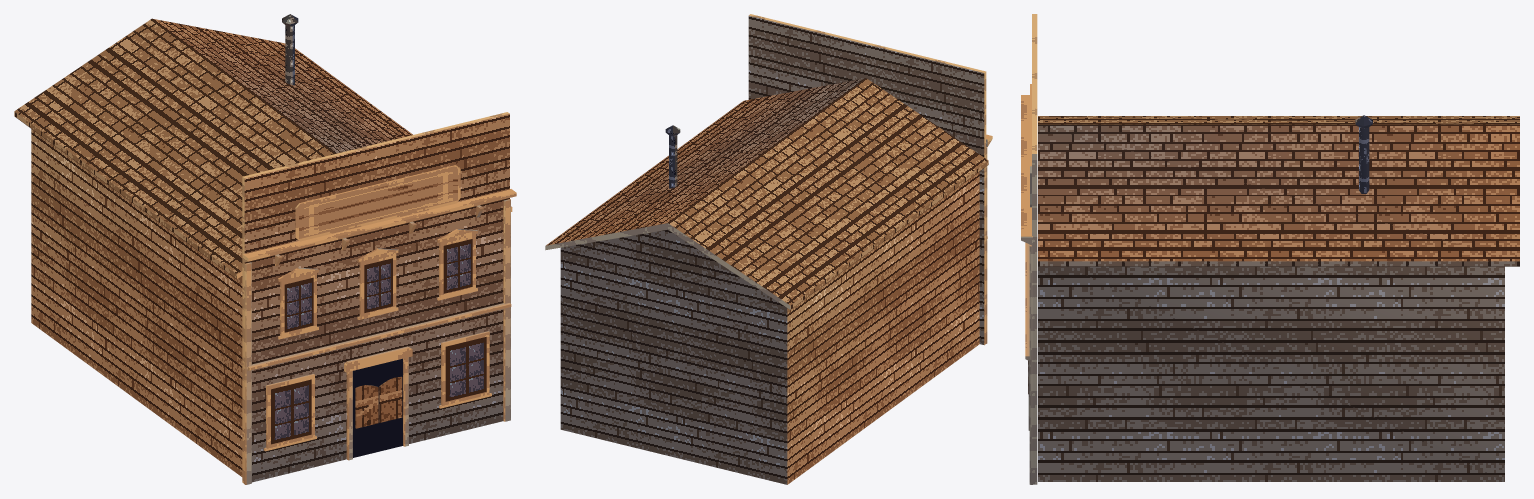
File: wtown.saloon__plain.glb
3 renders of one model, left to right at view 1: azimuth 30°, elevation 25°; view 2: azimuth 150°, elevation 25°; view 3: azimuth 270°, elevation 25°, orthographic. The views are drawn at different scales.
Parts seen in each view (by area): view 1: kit_front, kit_roof, kit_body, kit_card_panes, kit_trim, kit_windows, kit_door, kit_stovepipe; view 2: kit_body, kit_roof, kit_front, kit_stovepipe; view 3: kit_body, kit_roof, kit_trim, kit_front, kit_stovepipe.
Part boxes in pixels (x1,y1,x2,y2): kit_front: (242, 112, 509, 483); kit_roof: (14, 18, 512, 278); kit_body: (31, 129, 242, 476); kit_card_panes: (271, 168, 486, 457); kit_trim: (242, 165, 516, 484); kit_windows: (264, 229, 491, 451); kit_door: (355, 376, 402, 428); kit_stovepipe: (282, 14, 298, 85); kit_body: (560, 172, 979, 484); kit_roof: (545, 78, 988, 309); kit_front: (748, 14, 986, 345); kit_stovepipe: (665, 125, 680, 188); kit_body: (1038, 266, 1504, 481); kit_roof: (1038, 116, 1519, 266); kit_trim: (1021, 84, 1032, 484); kit_front: (1032, 14, 1037, 484); kit_stovepipe: (1355, 115, 1372, 193).
Size of the model in its own units: 8.1 by 8.7 by 11.75.
Materials: 8 (8 with a texture image).
